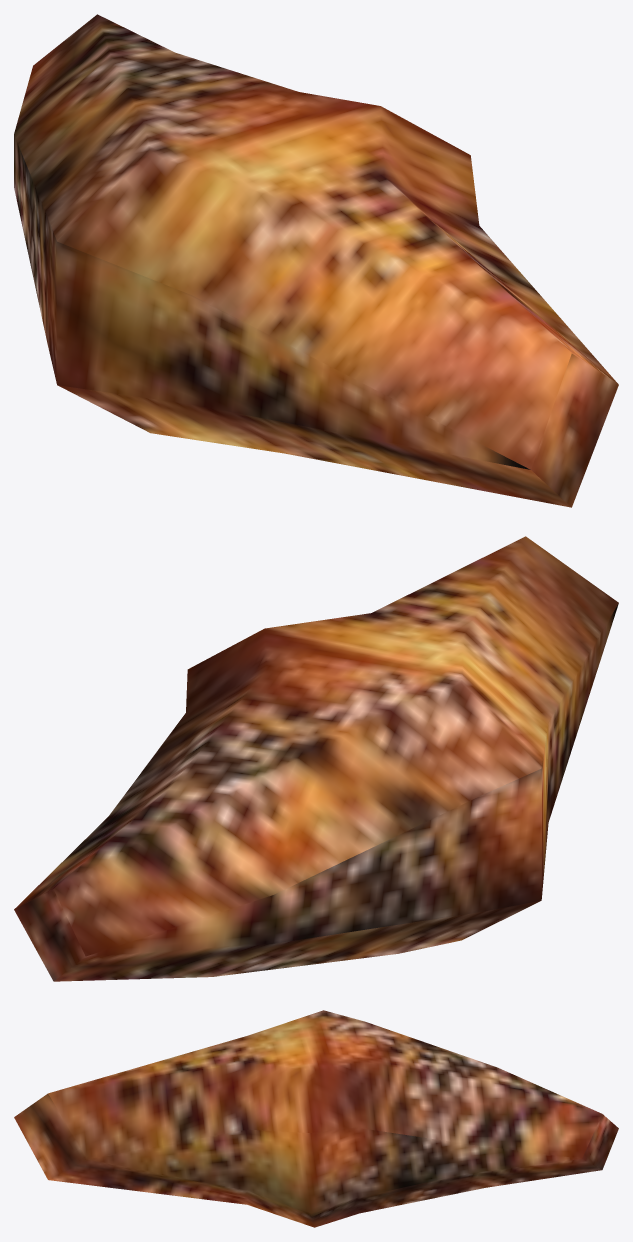
File: Bread_01.dae
3 views of the same model, one above another, from view 1: azimuth 30°, elevation 25°; view 2: azimuth 150°, elevation 25°; view 3: azimuth 270°, elevation 25° (orthographic). The views are drawn at different scales.
Visible parts, largest first — view 1: Bread_01; view 2: Bread_01; view 3: Bread_01.
Part boxes in pixels (x1=…): Bread_01: x1=14, y1=14, x2=618, y2=507; Bread_01: x1=14, y1=536, x2=618, y2=981; Bread_01: x1=14, y1=1010, x2=618, y2=1227.
Size of the model in its own units: 0.0803 by 0.1878 by 0.0536.
Materials: 1 (1 with a texture image).
